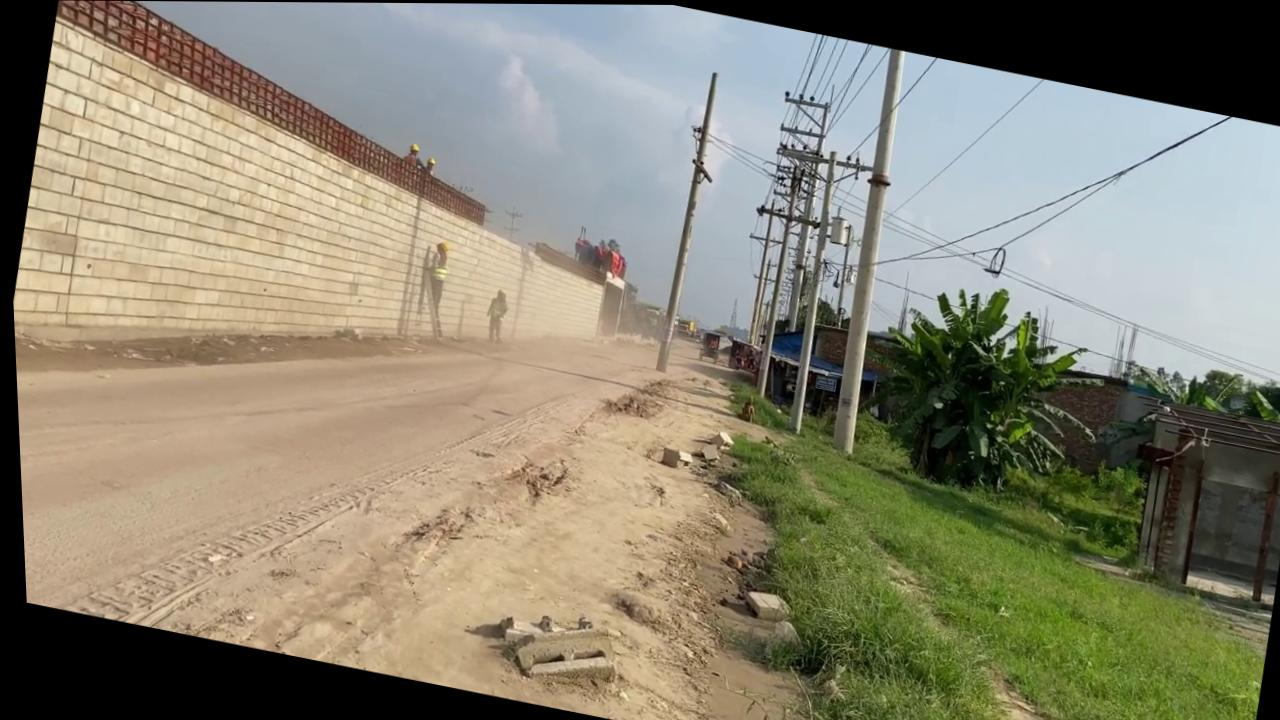Obstacle: (484, 603, 617, 692)
Pole: (808, 47, 926, 454), (641, 66, 728, 373), (771, 147, 850, 432), (741, 159, 809, 398)
Traffic-sign: (840, 261, 1118, 510)
Tree: (566, 223, 629, 279), (691, 325, 759, 371), (681, 317, 695, 336)
Upstairs: (0, 7, 648, 447)
